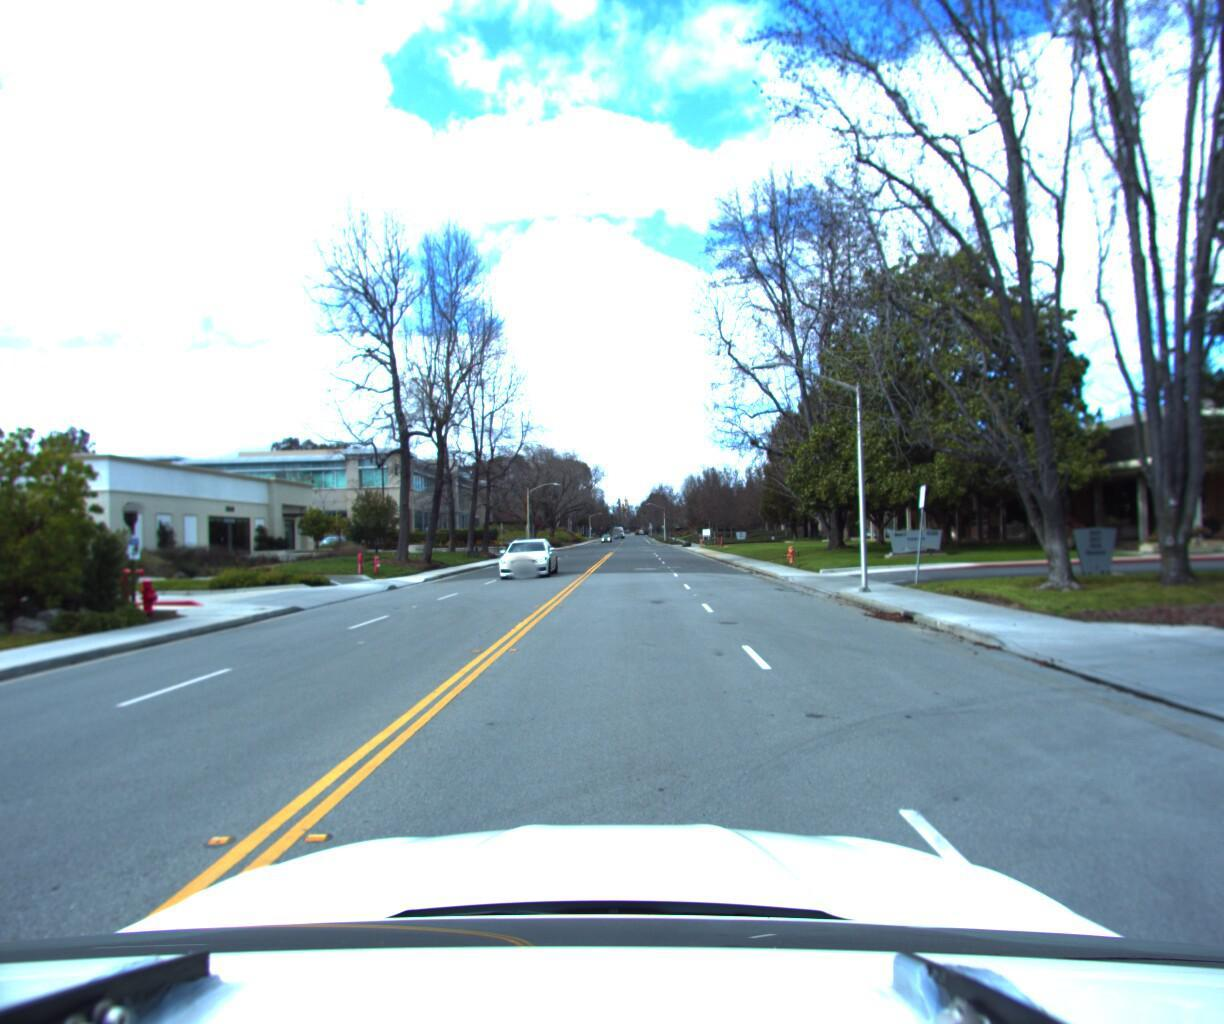car: (495, 537, 558, 582)
